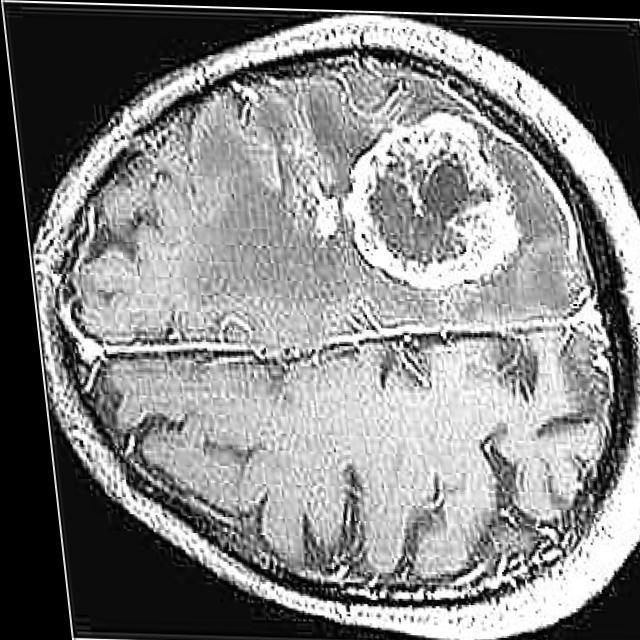Tumor: (345, 90, 523, 317)
